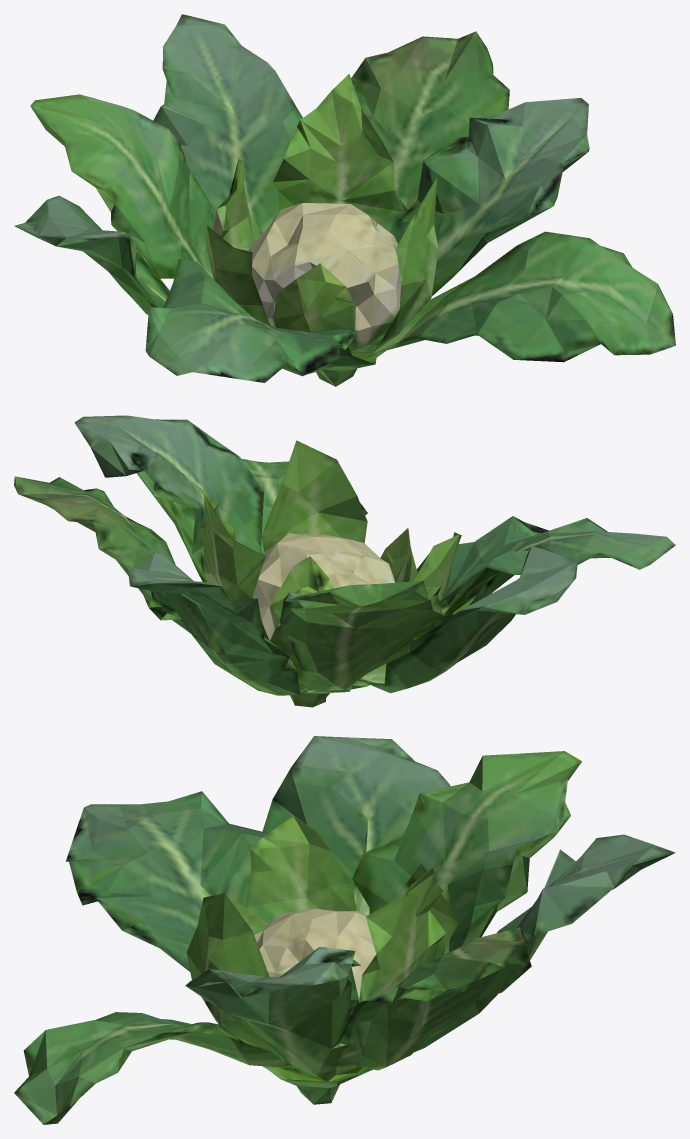
File: P_Huacai_02.obj
The picture shows the model from 3 angles, top to bottom: view 1: azimuth 30°, elevation 25°; view 2: azimuth 150°, elevation 25°; view 3: azimuth 270°, elevation 25°; orthographic projection. The views are drawn at different scales.
Size of the model in its own units: 0.637 by 0.2877 by 0.6501.
Materials: 1 (1 with a texture image).
